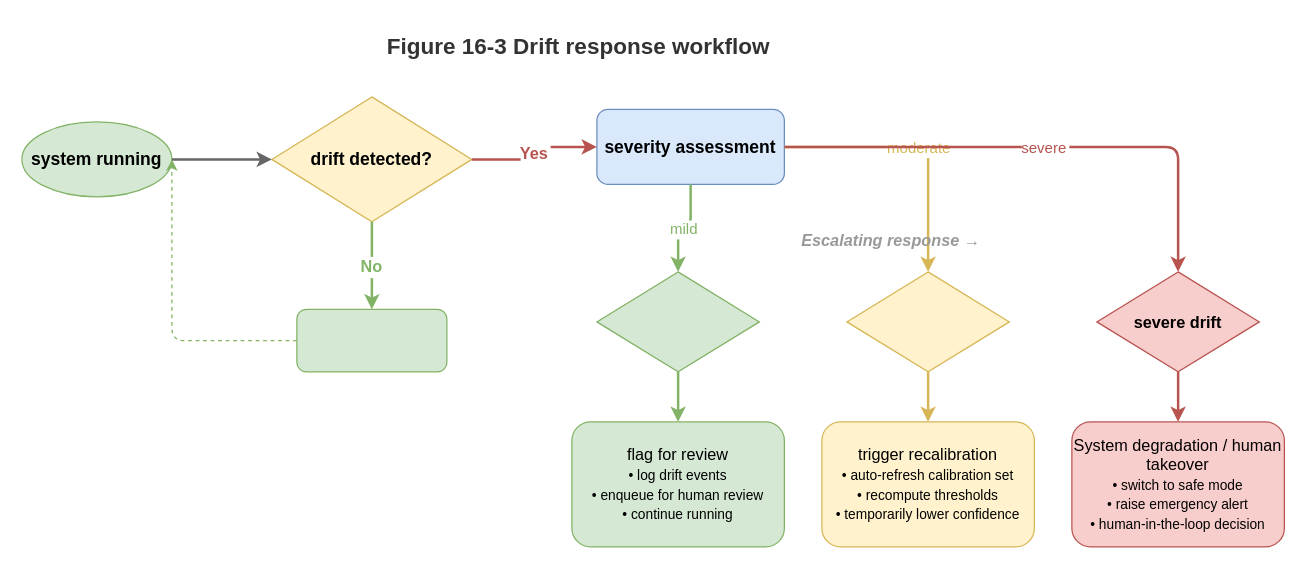
This 1306x569 diagram has some shape labels left out. The centre of each missing label's shape, as x and y in pixels:
continue normal operation: the point at 371,340
mild drift: the point at 677,321
moderate drift: the point at 927,321
